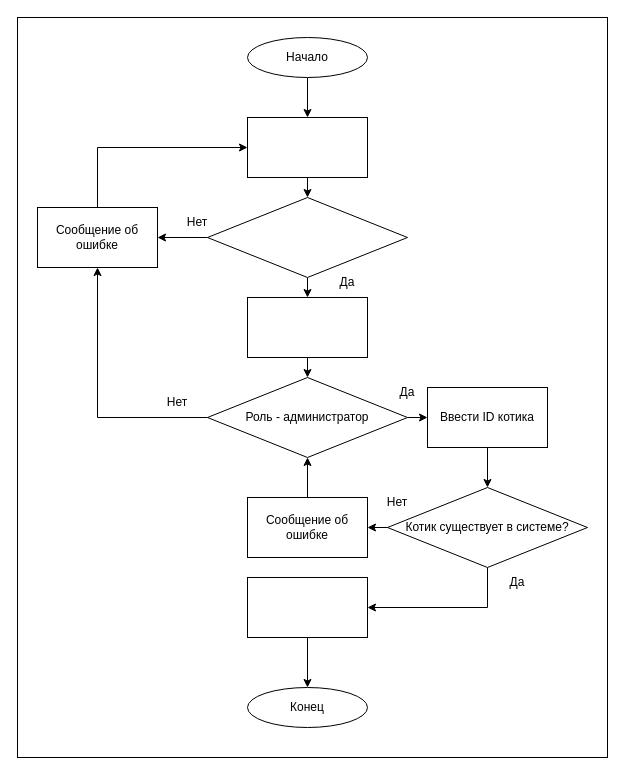
Some shapes in this 625 by 775 pixel diagram are drawn without their labels. The shapes that lost their labels are listed below. From the top down, each one's centre as x and y in pixels, then its label:
(307,147): Ввести ключ сессии
(307,237): Ключ сессии существует?
(307,327): Получить свою роль
(307,607): Вывести сообщение об успехе
